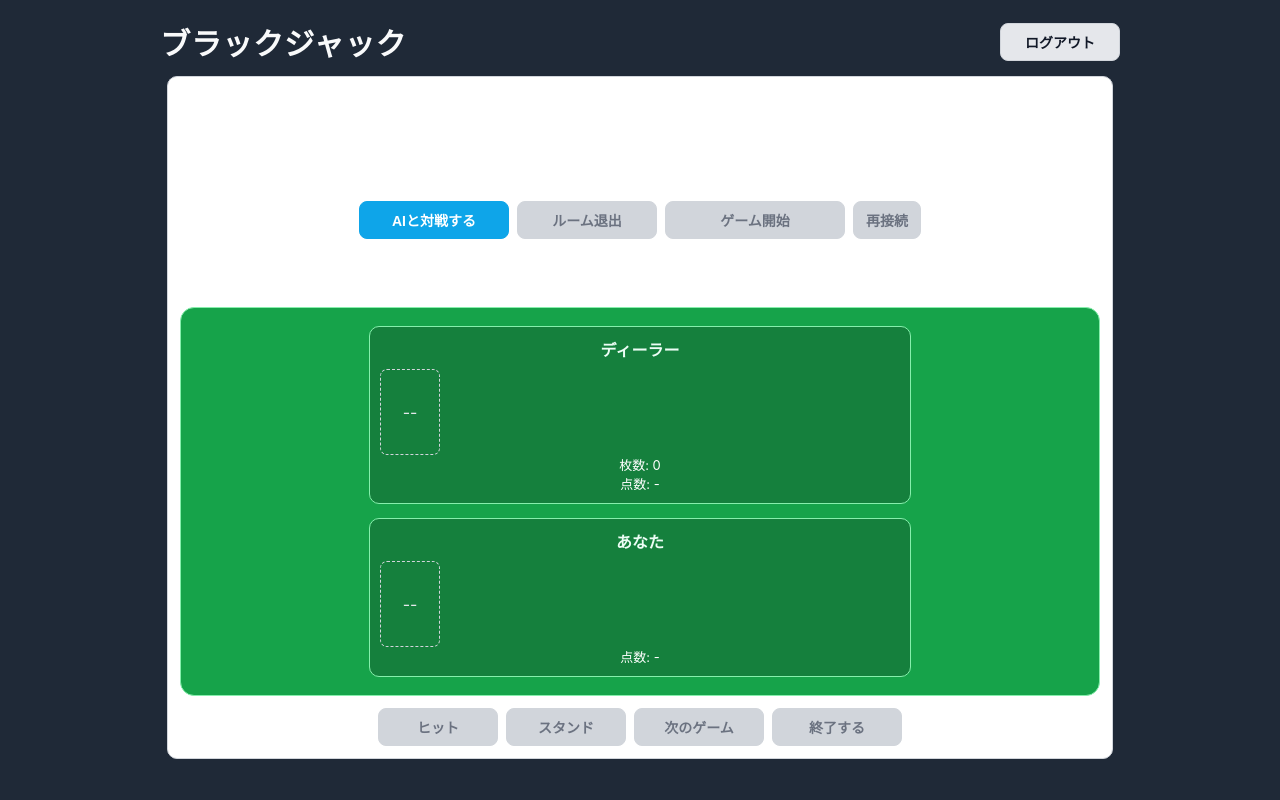
Test case: App › starts game from primary button and shows started state
Click the button "AIと対戦する": [434, 220] box 359,201 -> 509,239
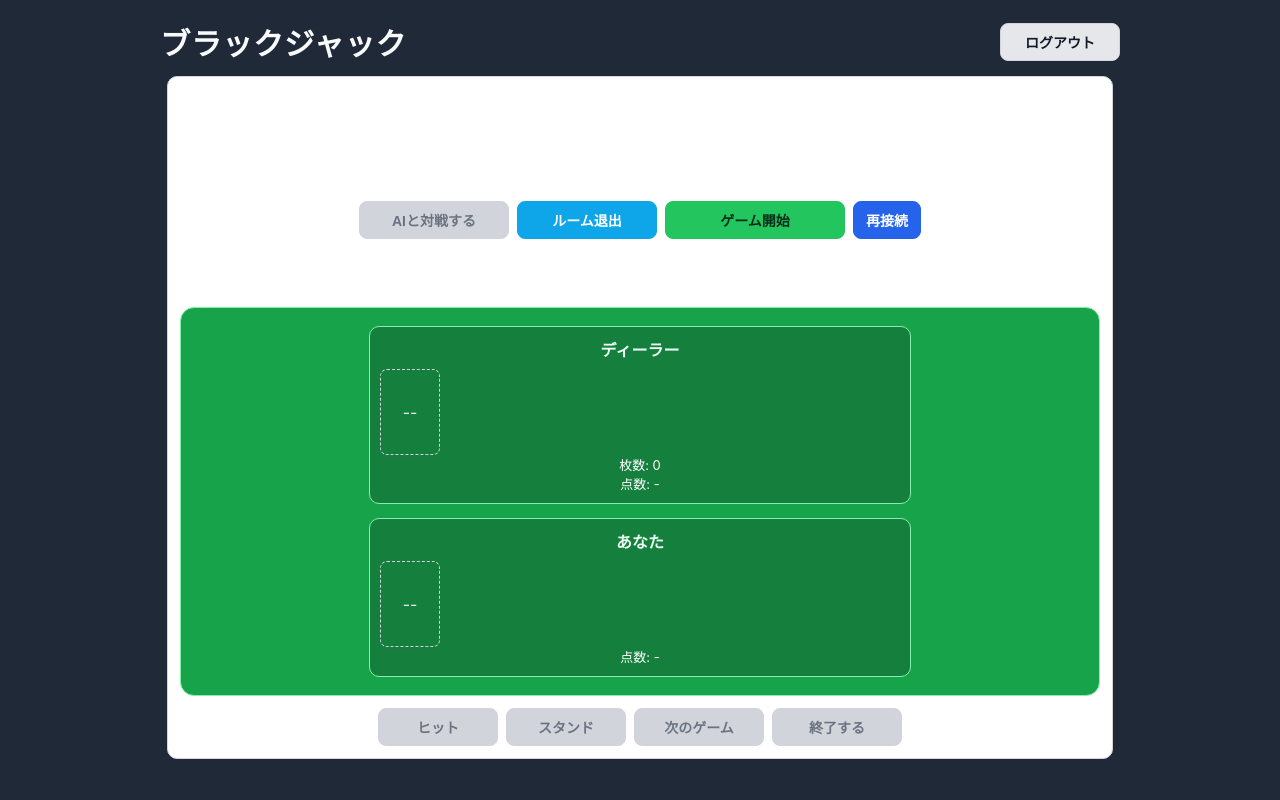
Click the button "ゲーム開始": [755, 220] box 665,201 -> 845,239
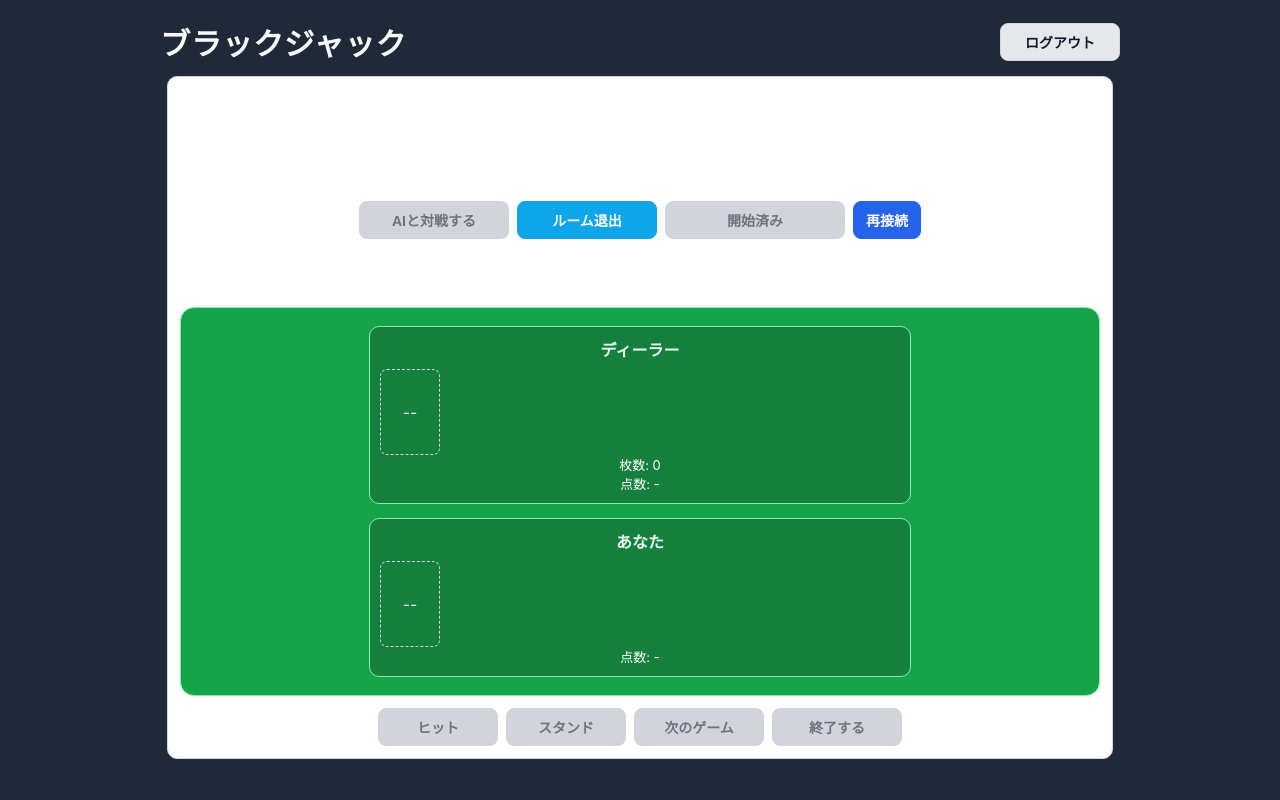
Now the button "開始済み" is shown, box 665,201 -> 845,239
